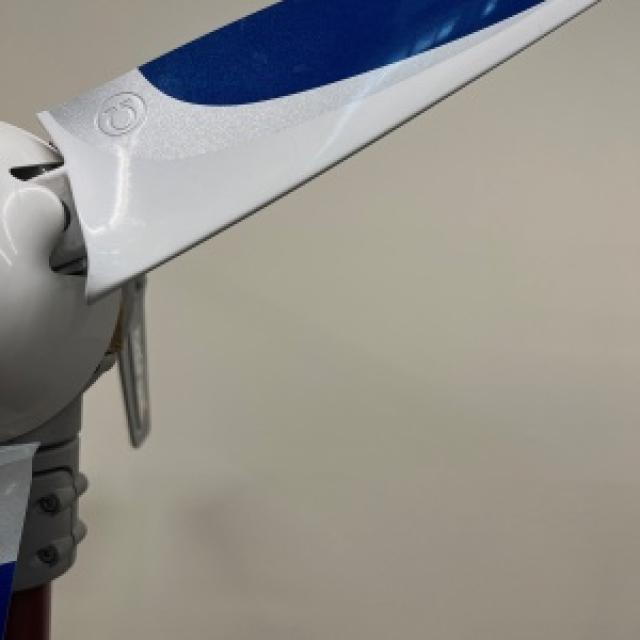healthy: (51, 0, 638, 638)
